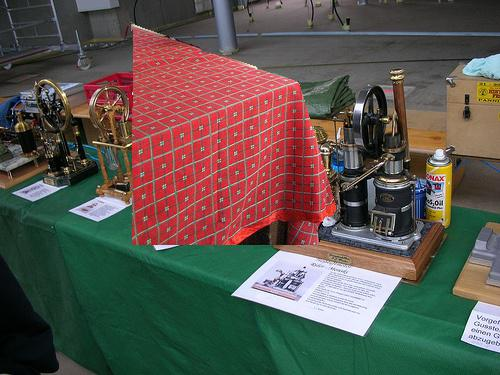tampered: (132, 23, 336, 245)
